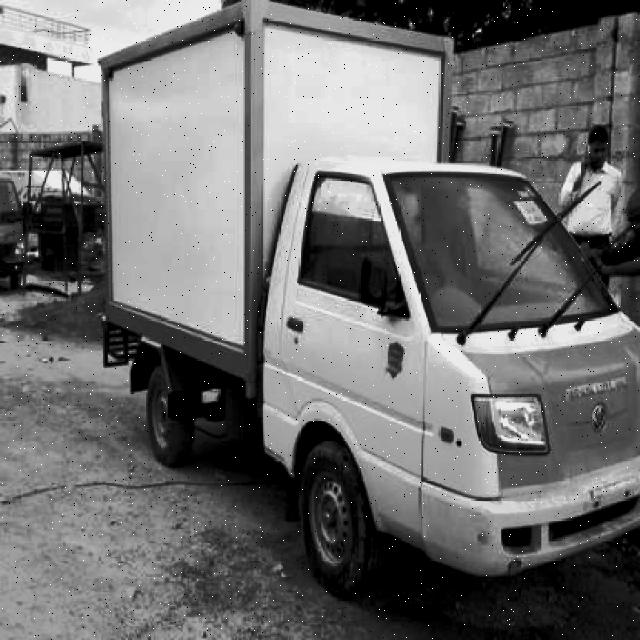LCV: (86, 42, 624, 600)
